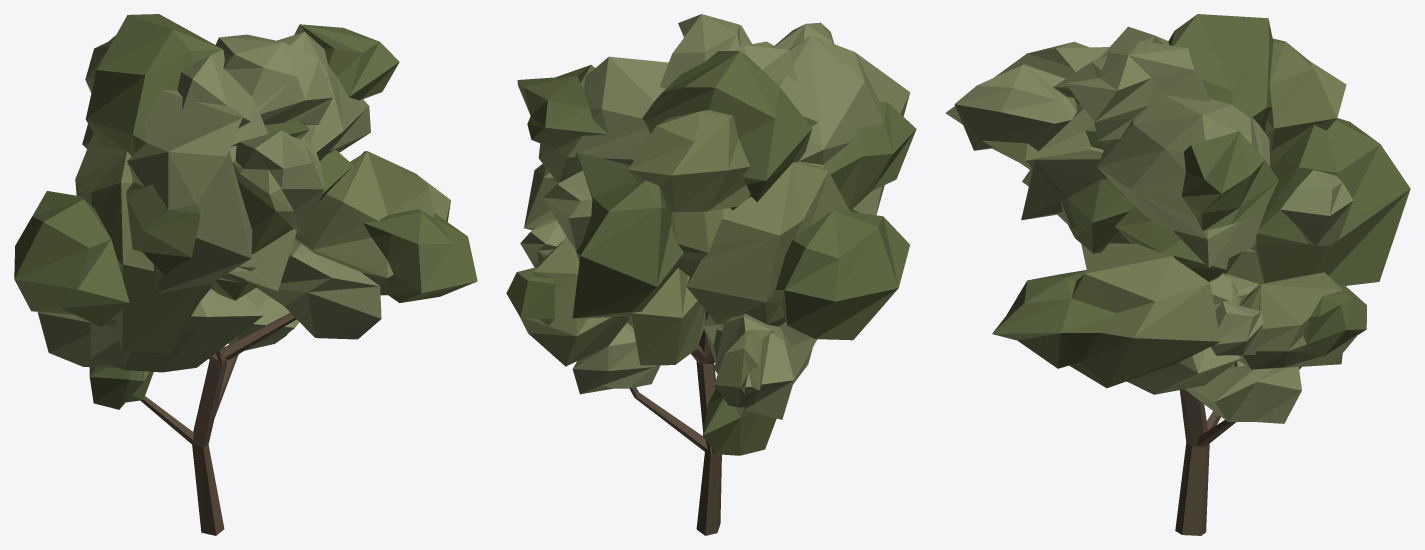
The picture shows the model from 3 angles, left to right: view 1: azimuth 30°, elevation 25°; view 2: azimuth 150°, elevation 25°; view 3: azimuth 270°, elevation 25°; orthographic projection. The views are drawn at different scales.
Visible parts, largest first — view 1: compact-reduced-50; view 2: compact-reduced-50; view 3: compact-reduced-50.
Boxes of the visible parts, x1,y1,x2,y2 form: compact-reduced-50: (14, 14, 477, 535); compact-reduced-50: (506, 14, 916, 535); compact-reduced-50: (945, 14, 1410, 535).
Size of the model in its own units: 17.44 by 20.77 by 17.41.
